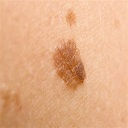Melanoma: (53, 41, 88, 84)
